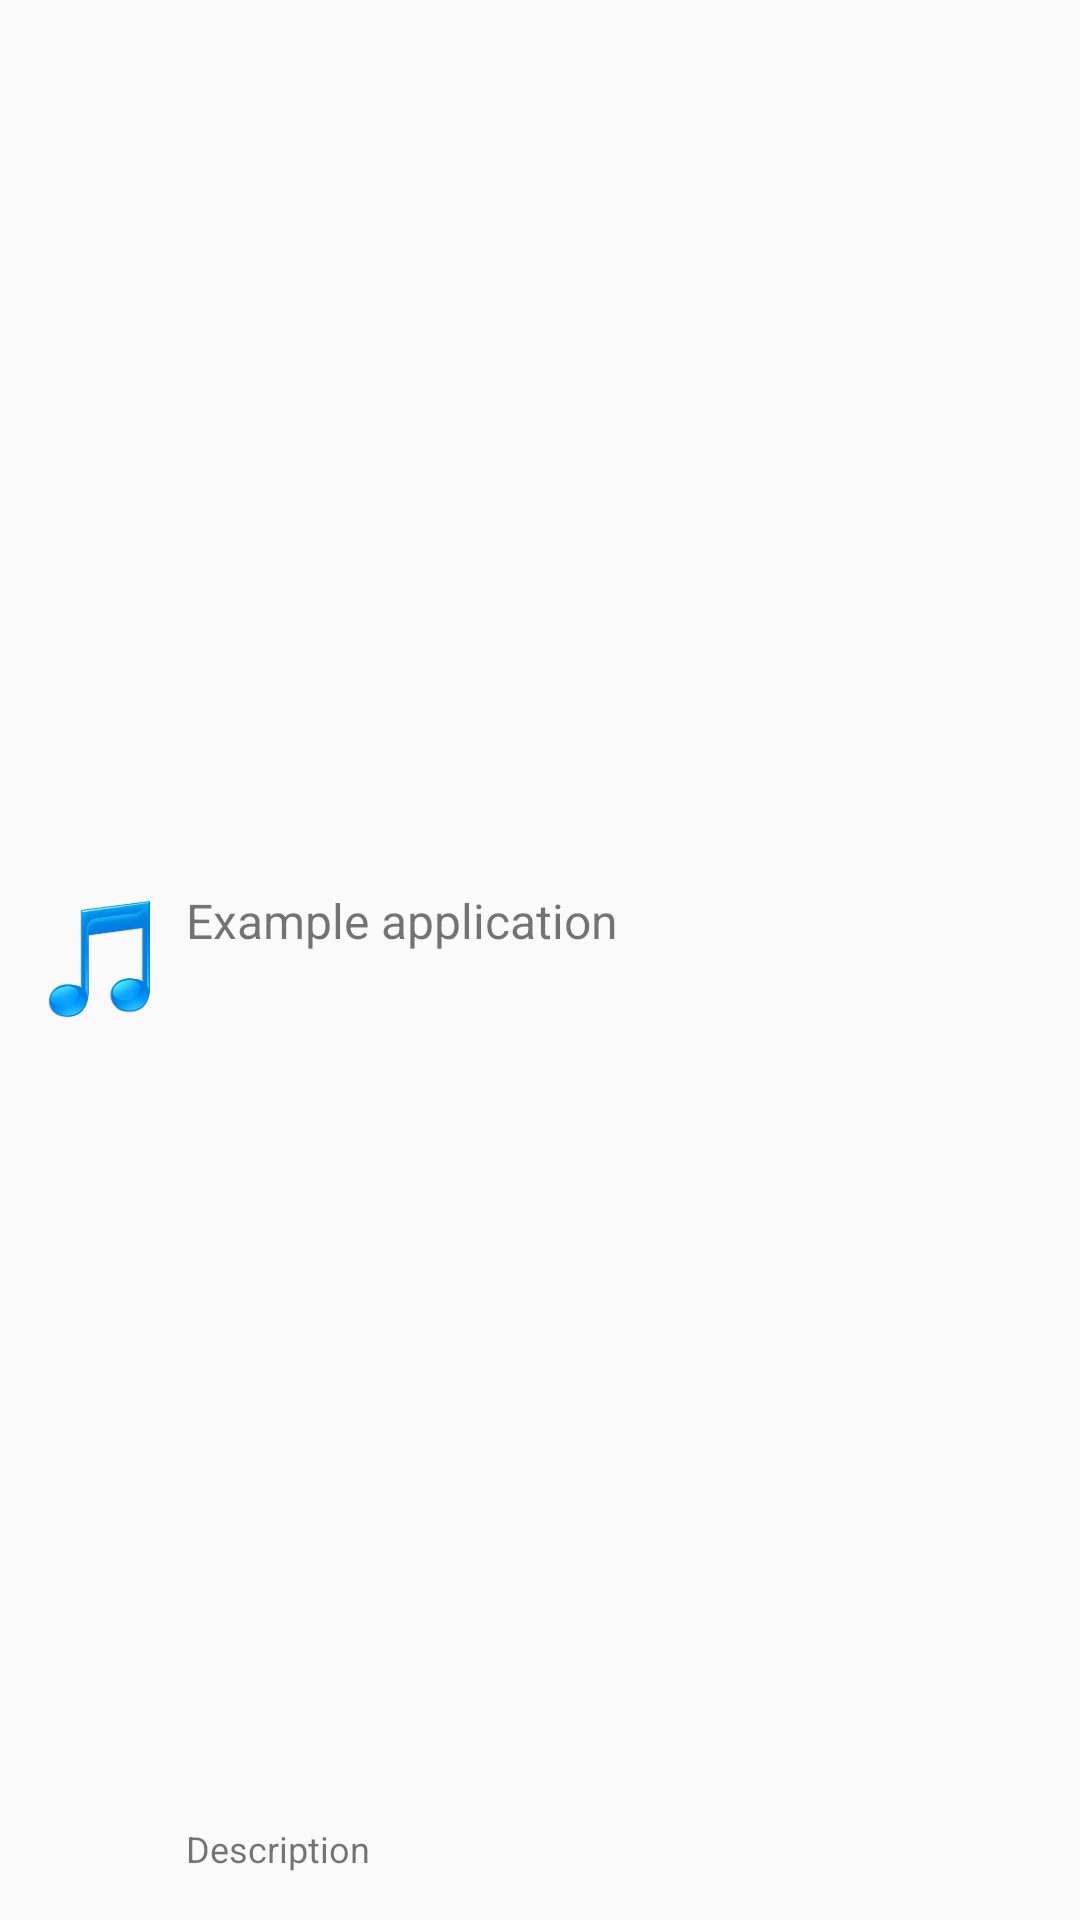

Icon bounding boxes for this 1080w x 1920h phone screenshot, format (x1, y1, x2, y2):
music: (49, 901, 150, 1017)
